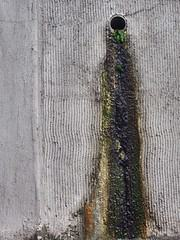Corrosion: (76, 29, 151, 240)
Spalling: (109, 15, 126, 31)
